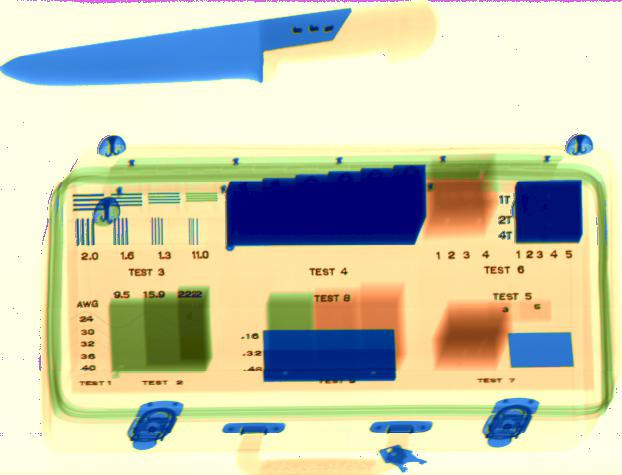Knife: (1, 3, 443, 91)
